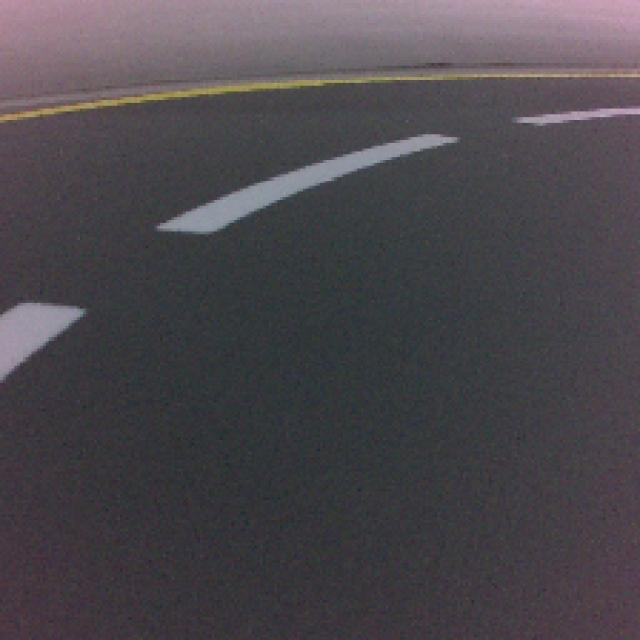Road: (0, 310, 640, 635)
